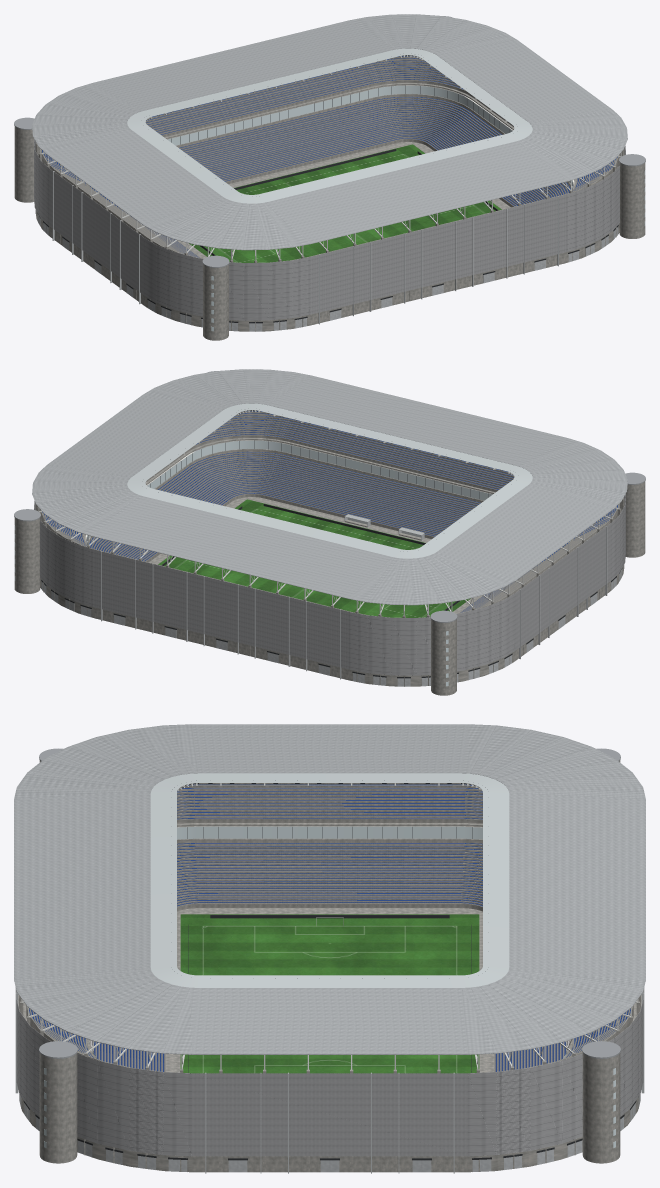
Rendered from footballStadium.glb.
3 views of the same model, one above another, from view 1: azimuth 30°, elevation 25°; view 2: azimuth 150°, elevation 25°; view 3: azimuth 270°, elevation 25° (orthographic). The views are drawn at different scales.
Visible parts, largest first — view 1: Roof, Facade screen, Lower tier, Upper tier, Roof translucent edge, Stair cores, Pitch, Concourse, Hospitality glass, Roof trusses, Gates, Screen fins (+3 smaller); view 2: Roof, Facade screen, Lower tier, Upper tier, Roof translucent edge, Stair cores, Pitch, Concourse, Hospitality glass, Roof trusses, Gates, Screen fins (+4 smaller); view 3: Roof, Facade screen, Lower tier, Pitch, Roof translucent edge, Upper tier, Stair cores, Concourse, Hospitality glass, Gates, Pitch surround, Roof trusses (+3 smaller).
Boxes of the visible parts, x1=… form: Roof: x1=32, y1=14, x2=627, y2=250; Facade screen: x1=34, y1=139, x2=625, y2=320; Lower tier: x1=90, y1=94, x2=572, y2=258; Upper tier: x1=41, y1=55, x2=619, y2=262; Roof translucent edge: x1=127, y1=48, x2=532, y2=203; Stair cores: x1=14, y1=16, x2=645, y2=340; Pitch: x1=189, y1=144, x2=501, y2=262; Concourse: x1=36, y1=85, x2=619, y2=331; Hospitality glass: x1=89, y1=85, x2=573, y2=189; Roof trusses: x1=35, y1=55, x2=624, y2=331; Gates: x1=36, y1=210, x2=618, y2=331; Screen fins: x1=52, y1=171, x2=558, y2=324; Roof: x1=32, y1=369, x2=627, y2=605; Facade screen: x1=34, y1=494, x2=625, y2=675; Lower tier: x1=87, y1=449, x2=569, y2=613; Upper tier: x1=40, y1=410, x2=618, y2=617; Roof translucent edge: x1=127, y1=403, x2=532, y2=558; Stair cores: x1=14, y1=371, x2=645, y2=695; Pitch: x1=158, y1=499, x2=470, y2=617; Concourse: x1=40, y1=440, x2=623, y2=686; Hospitality glass: x1=86, y1=440, x2=570, y2=544; Roof trusses: x1=35, y1=410, x2=624, y2=686; Gates: x1=41, y1=565, x2=623, y2=686; Screen fins: x1=101, y1=526, x2=607, y2=679; Roof: x1=14, y1=724, x2=645, y2=1054; Facade screen: x1=16, y1=992, x2=643, y2=1156; Lower tier: x1=93, y1=838, x2=566, y2=1071; Pitch: x1=180, y1=914, x2=479, y2=1073; Roof translucent edge: x1=150, y1=773, x2=509, y2=987; Upper tier: x1=26, y1=783, x2=633, y2=1073; Stair cores: x1=39, y1=748, x2=620, y2=1163; Concourse: x1=18, y1=826, x2=641, y2=1172; Hospitality glass: x1=92, y1=826, x2=567, y2=1058; Gates: x1=19, y1=1094, x2=640, y2=1172; Pitch surround: x1=165, y1=908, x2=494, y2=1072; Roof trusses: x1=19, y1=783, x2=640, y2=1172.
Bounding box in the file's own units: 209 × 38.47 × 169.
17 materials, 17 textured.
